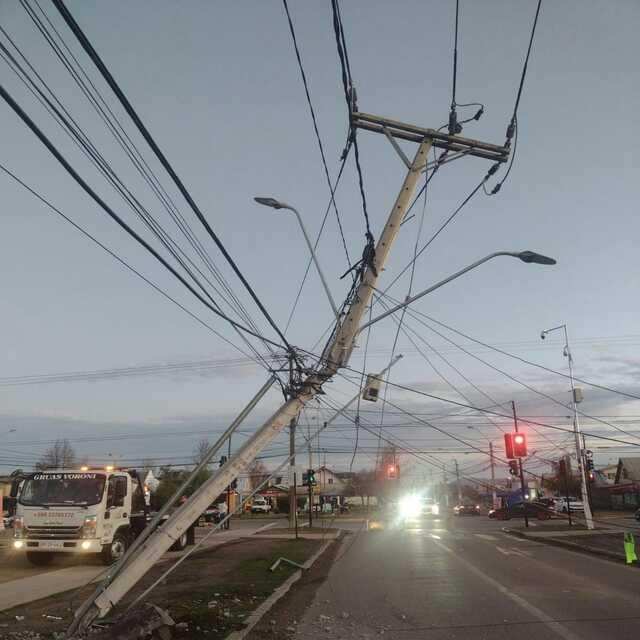Inclined Pole: (90, 83, 565, 621)
